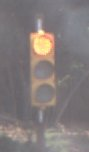Red: (27, 27, 59, 115)
